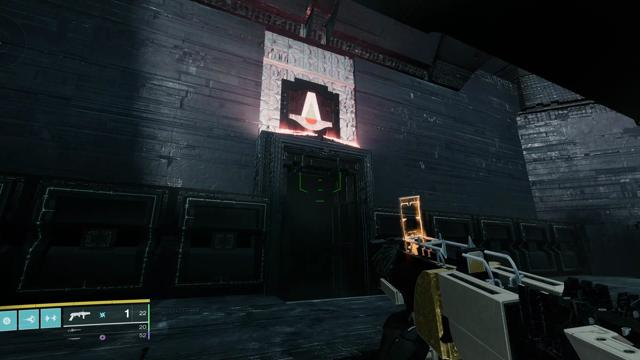enter: (290, 88, 332, 130)
